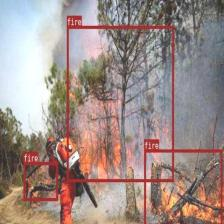fire: (66, 26, 174, 182), (144, 149, 222, 224), (23, 162, 58, 200)
